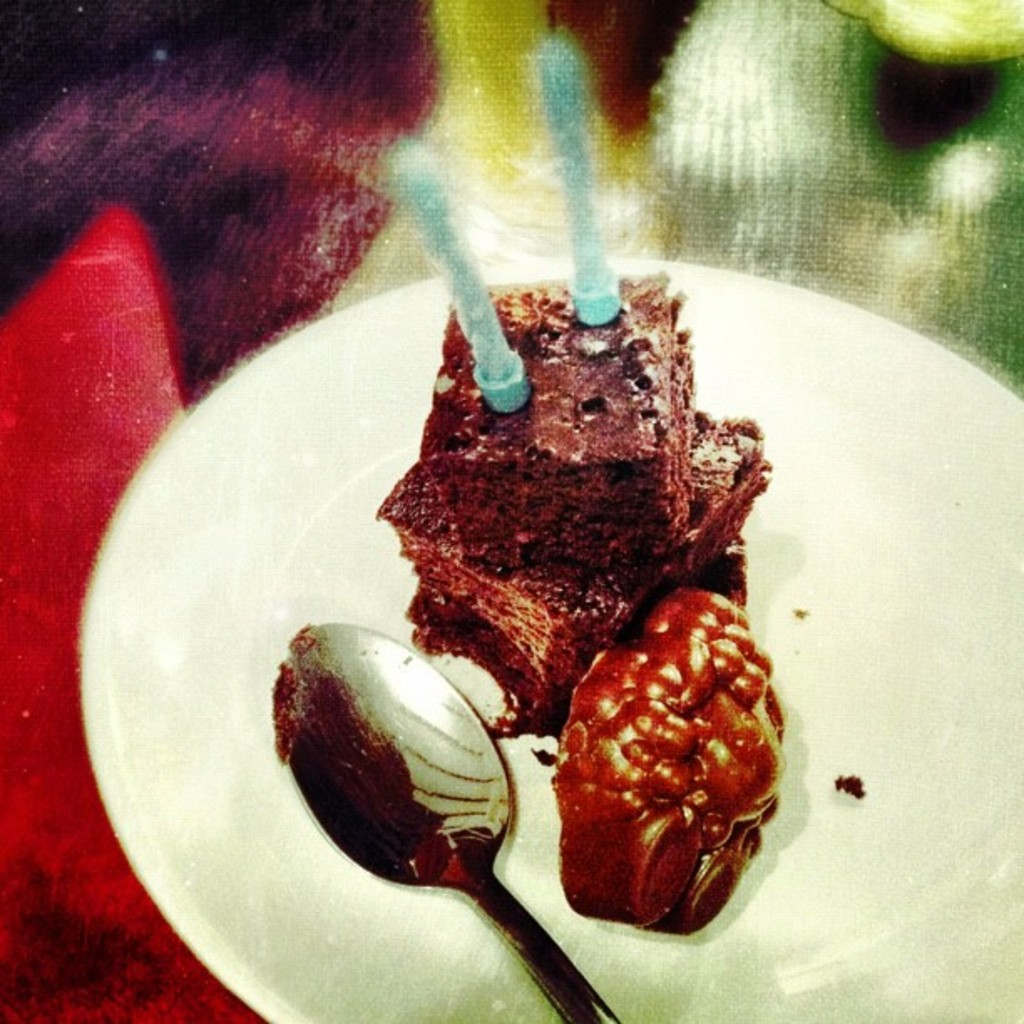cake: (361, 261, 765, 751)
